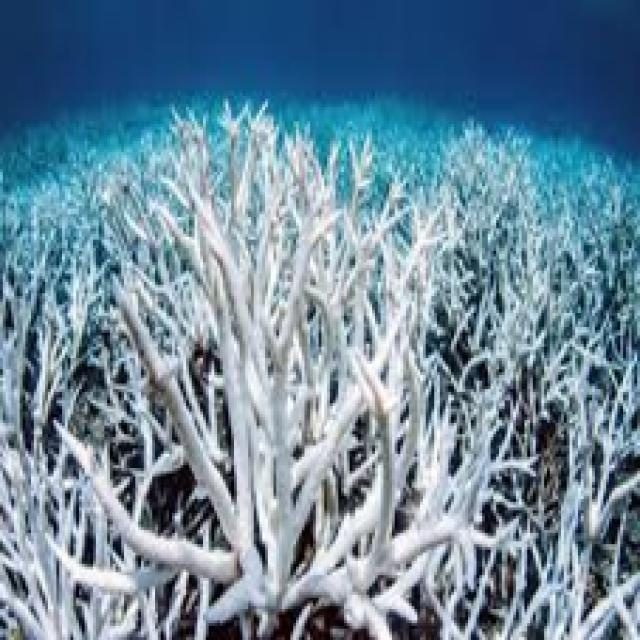Bleached: (1, 161, 640, 640), (140, 129, 432, 613), (1, 437, 120, 640)
